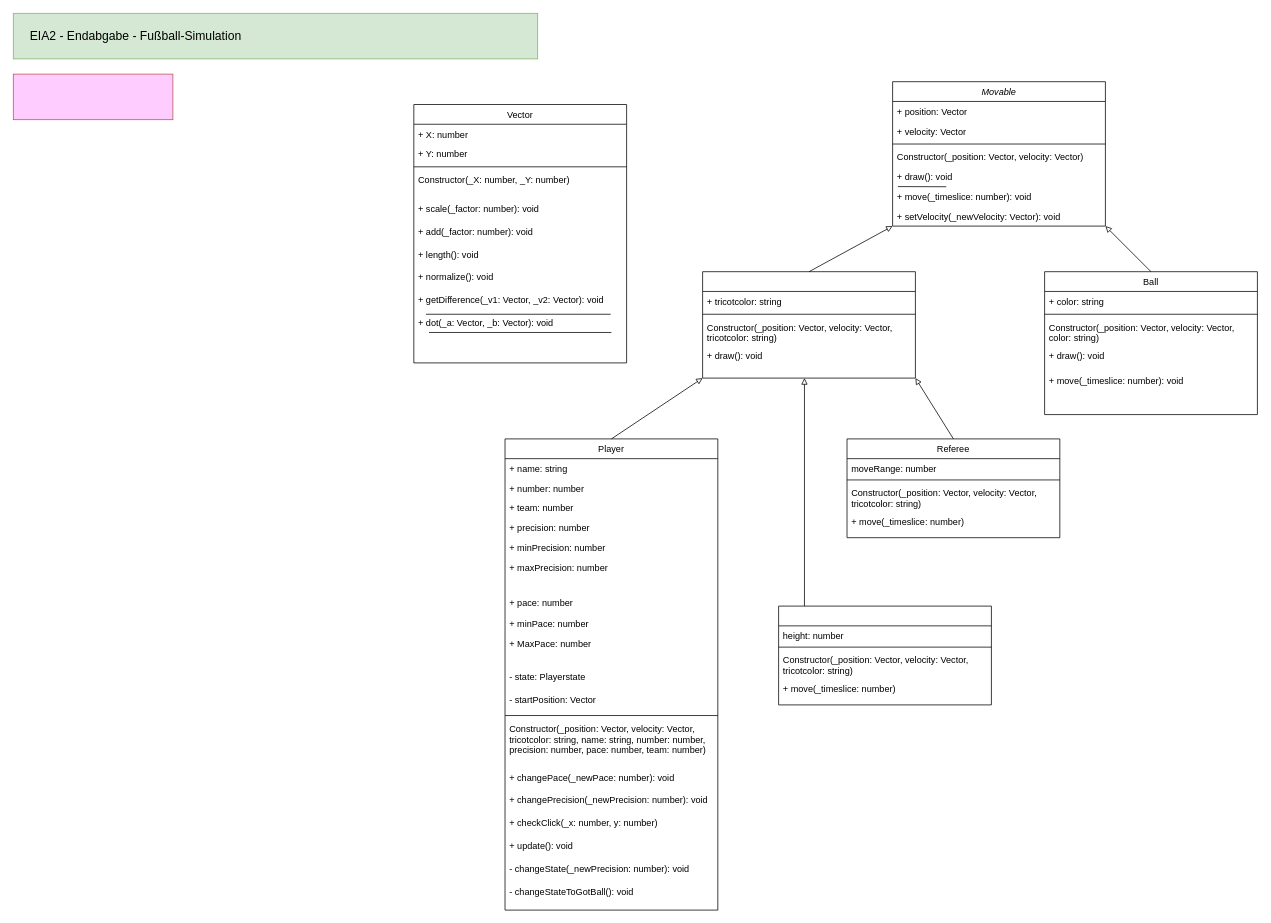
Some shapes in this 1271 by 923 pixel diagram are drawn without their labels. The shapes that lost their labels are listed below. From the top down, each one's box as (x1, y1, x2, y2) in pixels, then its label:
(13, 73, 173, 120): Klassendiagramm
(702, 271, 915, 378): Human
(778, 605, 991, 705): LineJudge
